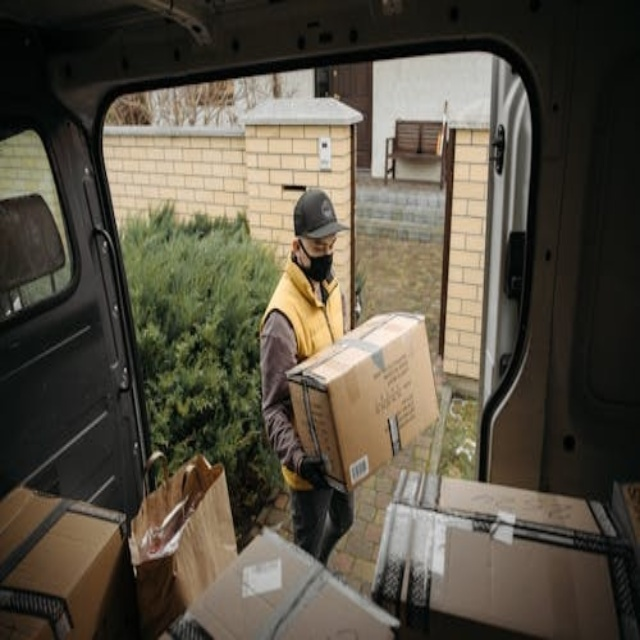Guantes: (299, 456, 329, 489)
Mascara: (300, 245, 334, 283)
Sin_gafas: (302, 236, 338, 255)
